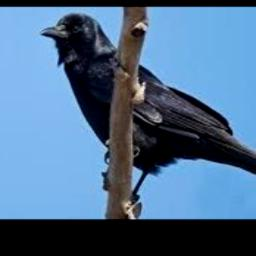Crow: (41, 11, 256, 194)
